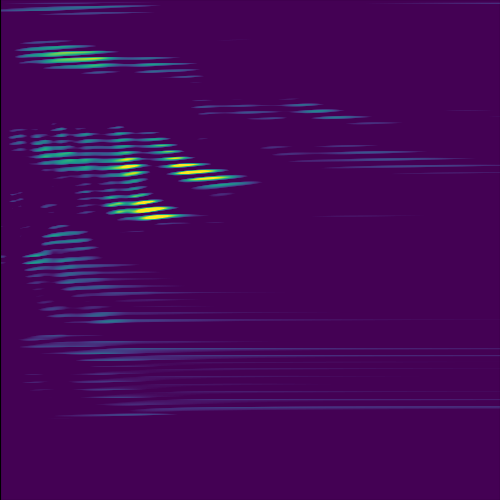semblance: (127, 191, 182, 226), (48, 44, 114, 66), (111, 149, 148, 180)
